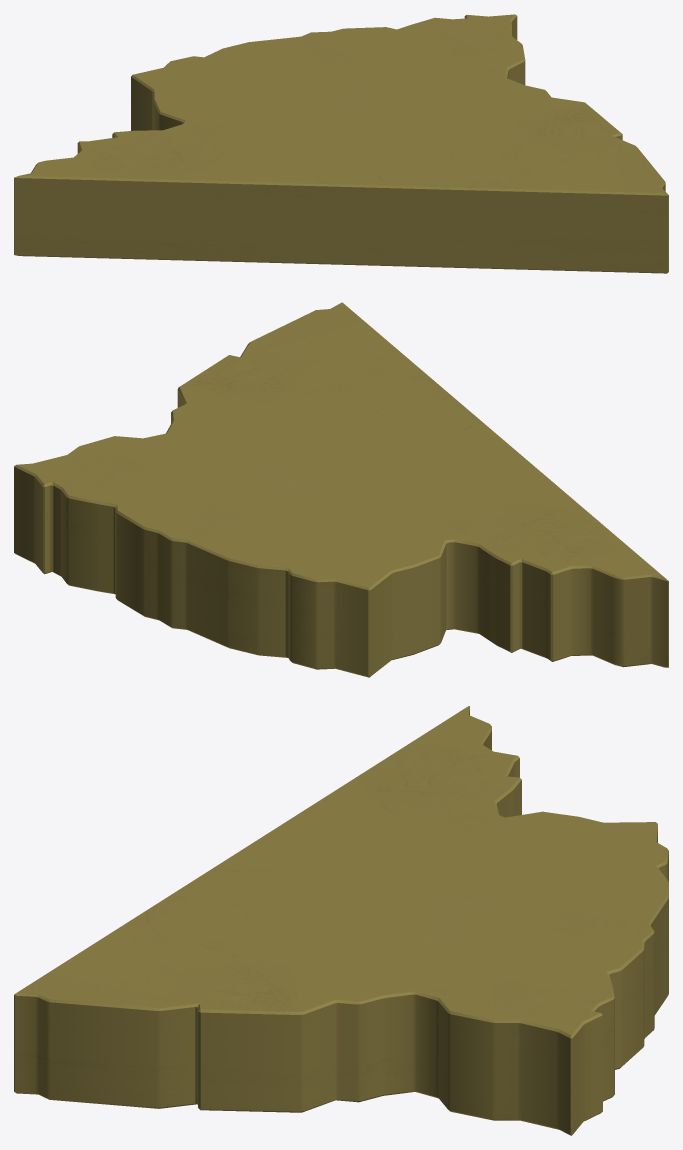
Rendered from algeria.DAE.
3 views of the same model, one above another, from view 1: azimuth 30°, elevation 25°; view 2: azimuth 150°, elevation 25°; view 3: azimuth 270°, elevation 25° (orthographic). The views are drawn at different scales.
Parts seen in each view (by area): view 1: Algeria; view 2: Algeria; view 3: Algeria.
Part boxes in pixels (<box>): Algeria: <box>14,14,668,273</box>; Algeria: <box>14,302,668,677</box>; Algeria: <box>14,706,668,1135</box>.
Size of the model in its own units: 177 by 148 by 25.
Materials: 1 (1 with a texture image).
